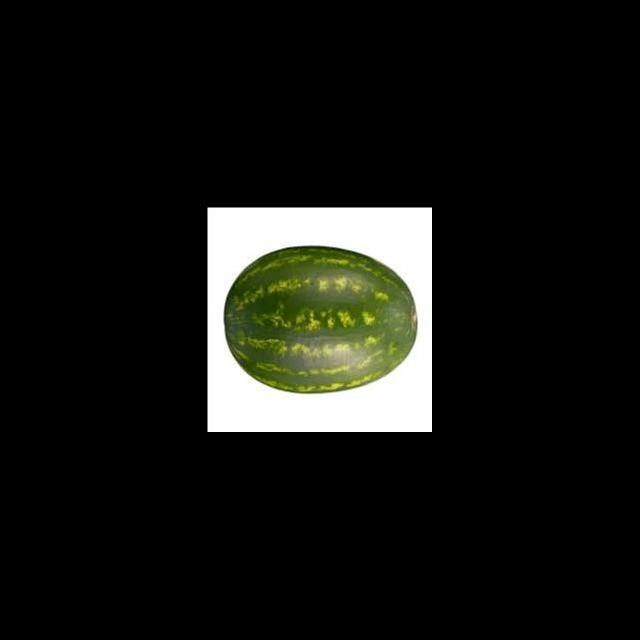watermelon: (225, 246, 420, 389)
